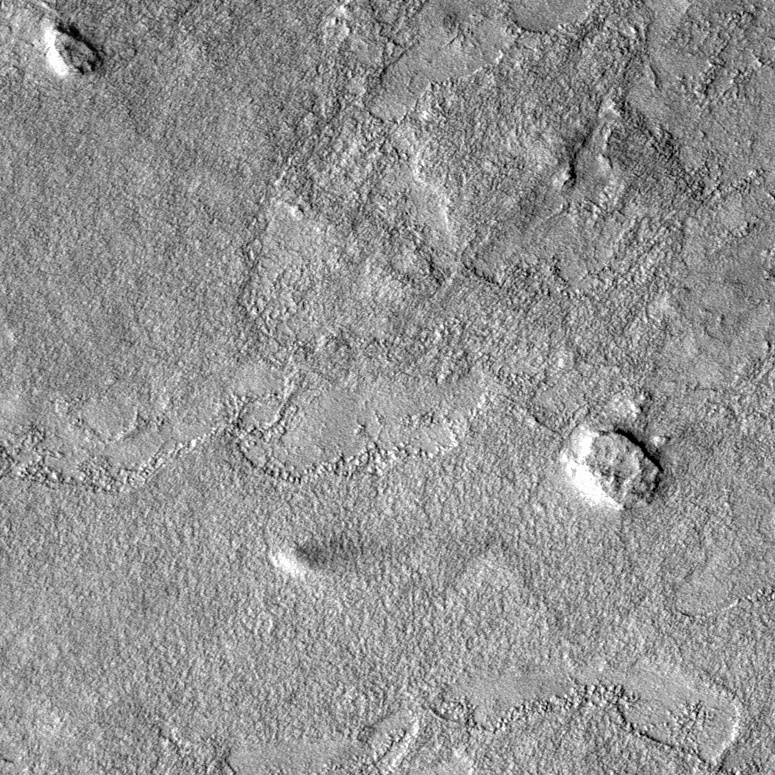dust_devil: (269, 530, 397, 582)
